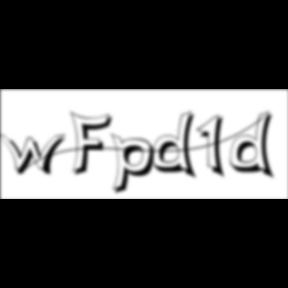1: (196, 114, 230, 182)
F: (70, 110, 118, 178)
d: (152, 110, 202, 182), (230, 110, 280, 182)
p: (111, 132, 161, 198)
w: (0, 132, 74, 178)
